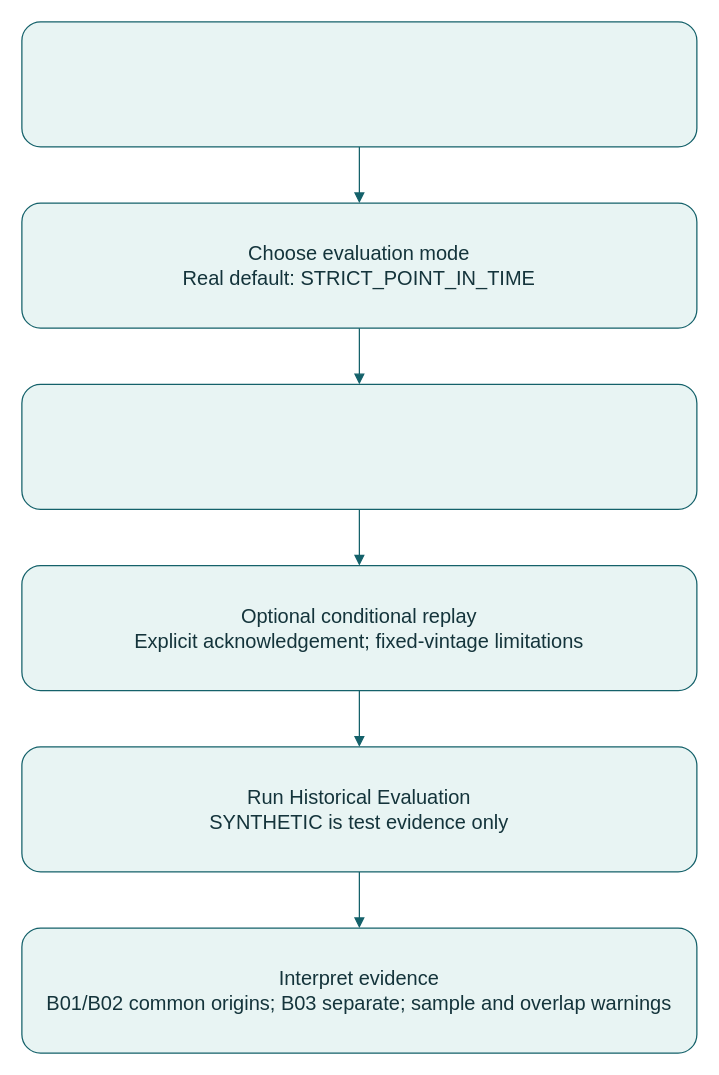
Some shapes in this 719 by 1075 pixel diagram are drawn without their labels. The centre of each missing label's shape, as x and y in pixels:
"6. Open Advanced Research Optional, separate from forecast generation" belongs at point (359, 84).
"Check point-in-time evidence If missing: block scoring, do not silently switch" belongs at point (359, 446).
